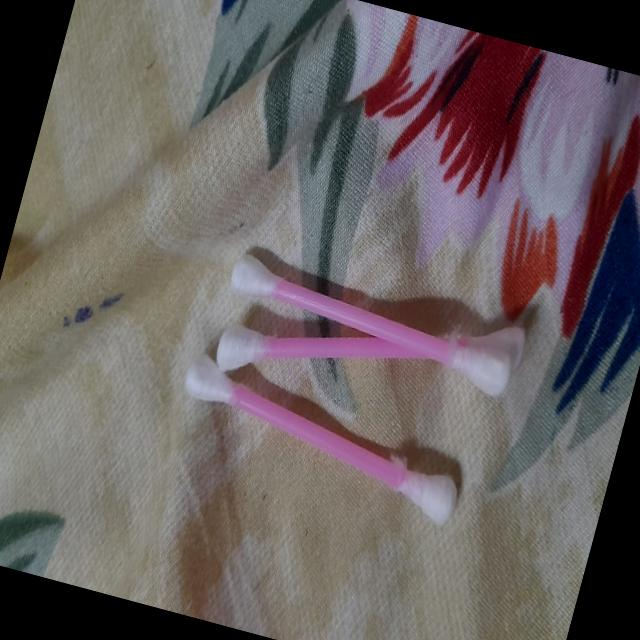Earbud - Non Recyclable: (163, 237, 532, 538)
